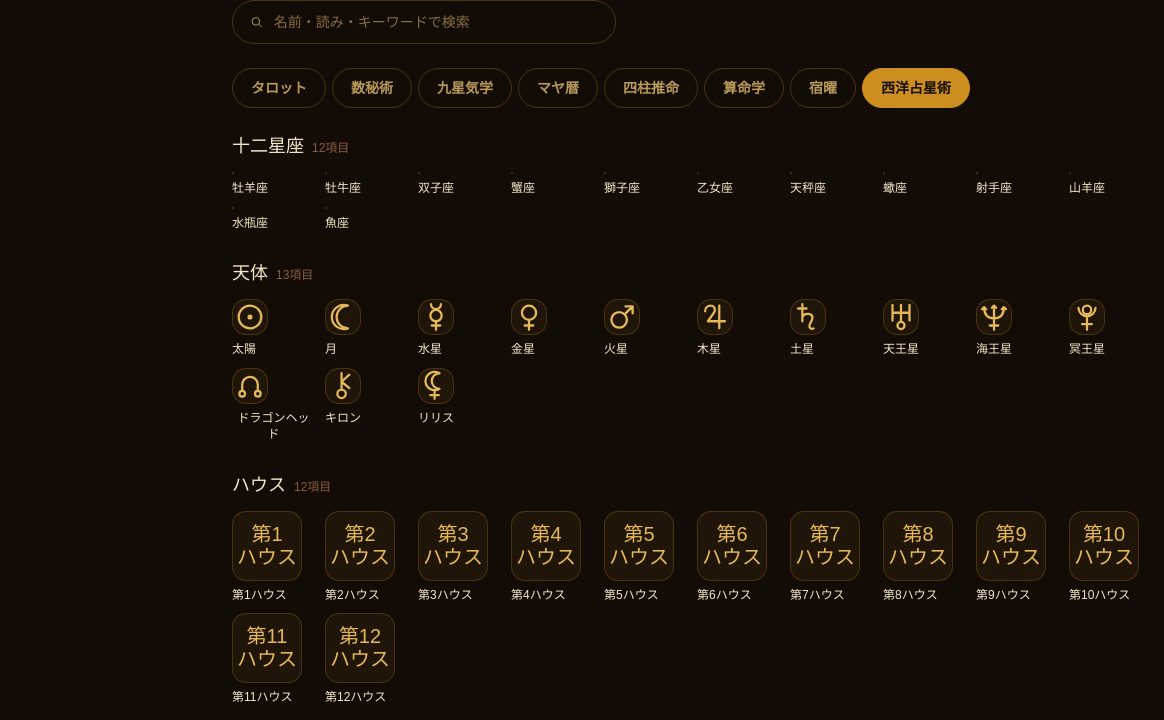
Test: GuideBrowser(PC幅のサイドパネル) › 1280px 以上ではタイルの詳細を右のサイドパネルに表示すること
Click the button with aria-label "牡羊座の詳細を見る": (274, 184) [232,172,315,196]
(page scrolled)
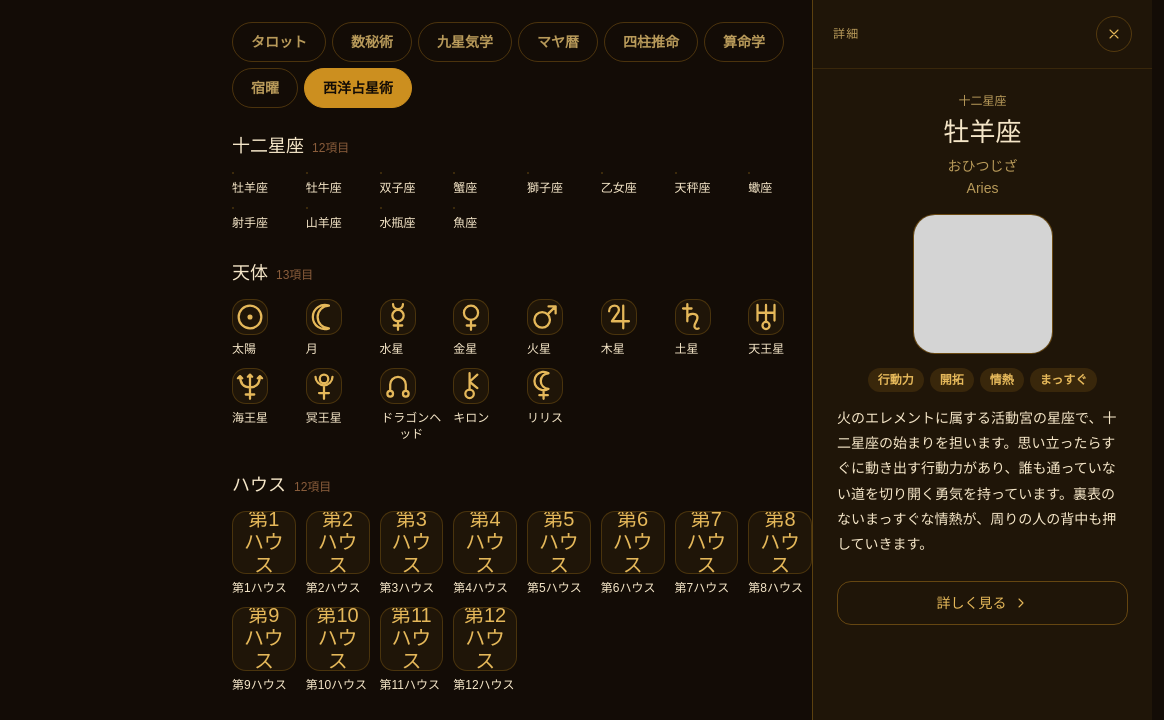
expect the heading "牡羊座" is shown: met, box [944,117,1022,147]
Click the link "詳しく見る": (982, 603) [837,581,1128,625]
(page scrolled)
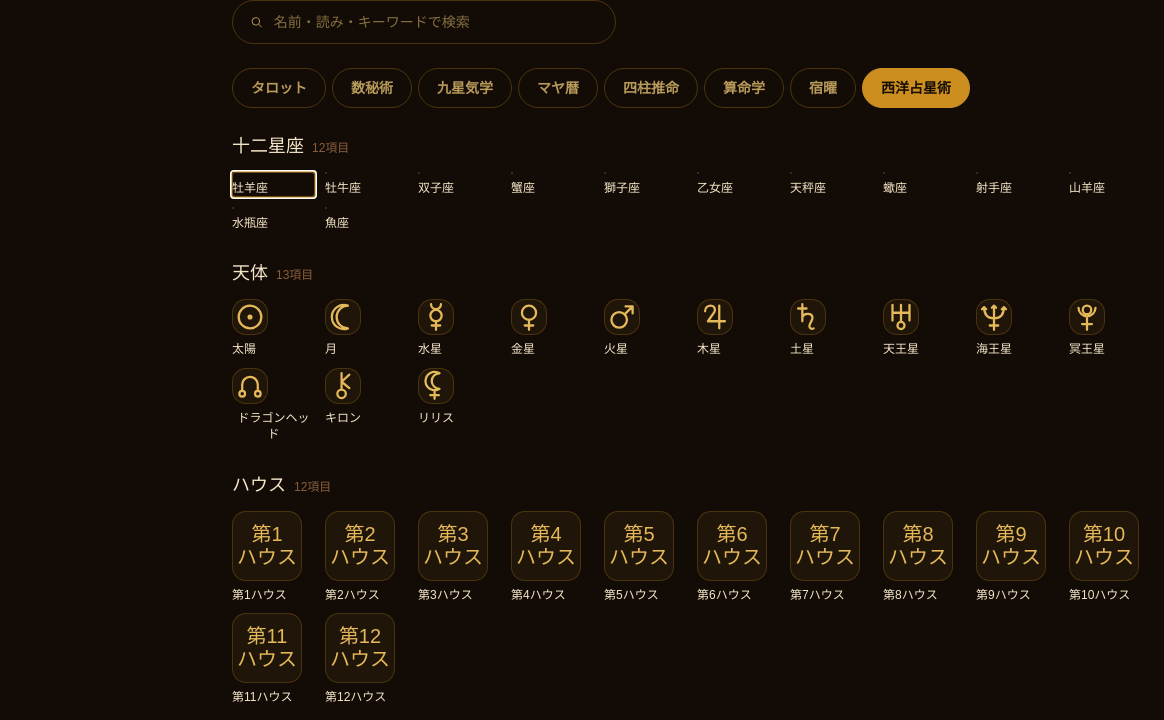
expect the element "詳細パネル" is gone: met
